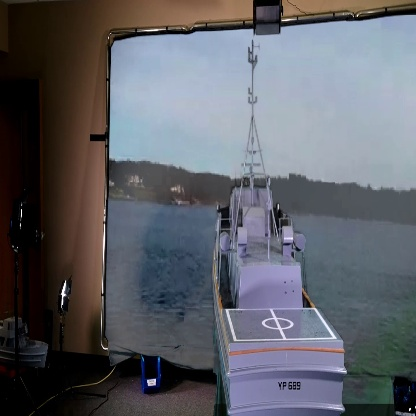YP689: (210, 60, 353, 416)
